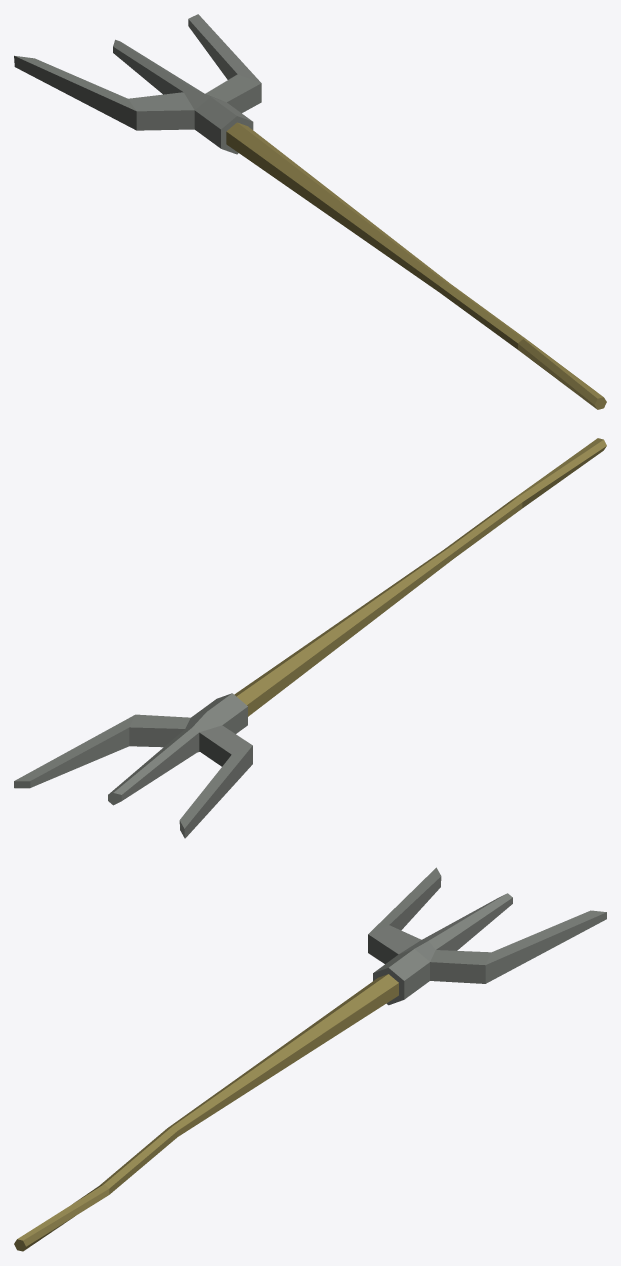
The model's file is gardentool05.fbx.
3 views of the same model, one above another, from view 1: azimuth 30°, elevation 25°; view 2: azimuth 150°, elevation 25°; view 3: azimuth 330°, elevation 25° (orthographic). The views are drawn at different scales.
Parts seen in each view (by area): view 1: Cylinder.012; view 2: Cylinder.012; view 3: Cylinder.012.
Boxes of the visible parts, bbox=[...] form: Cylinder.012: bbox=[14, 14, 606, 409]; Cylinder.012: bbox=[14, 438, 606, 838]; Cylinder.012: bbox=[14, 867, 606, 1251].
Size of the model in its own units: 0.3427 by 0.0704 by 1.68.
